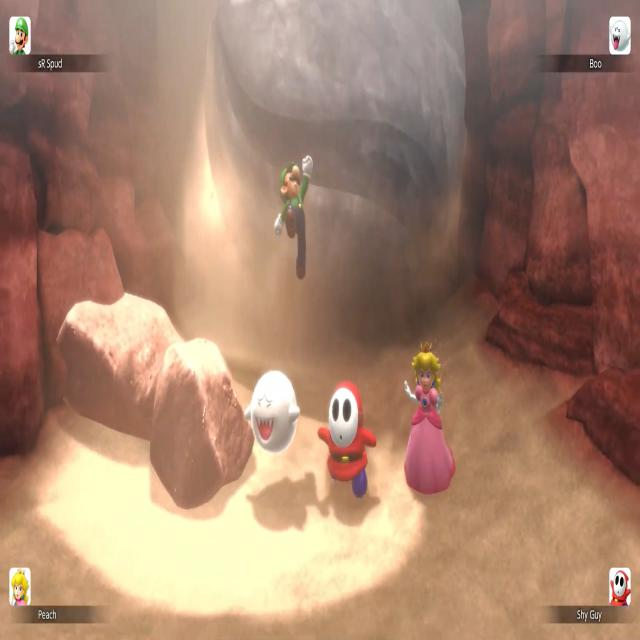Boo: (243, 370, 300, 453)
Luigi: (274, 154, 313, 280)
Peach: (404, 341, 456, 494)
Shy Guy: (318, 381, 376, 498)
obstacle: (56, 291, 185, 440), (150, 338, 255, 508)
rolling stone: (207, 0, 465, 341)
